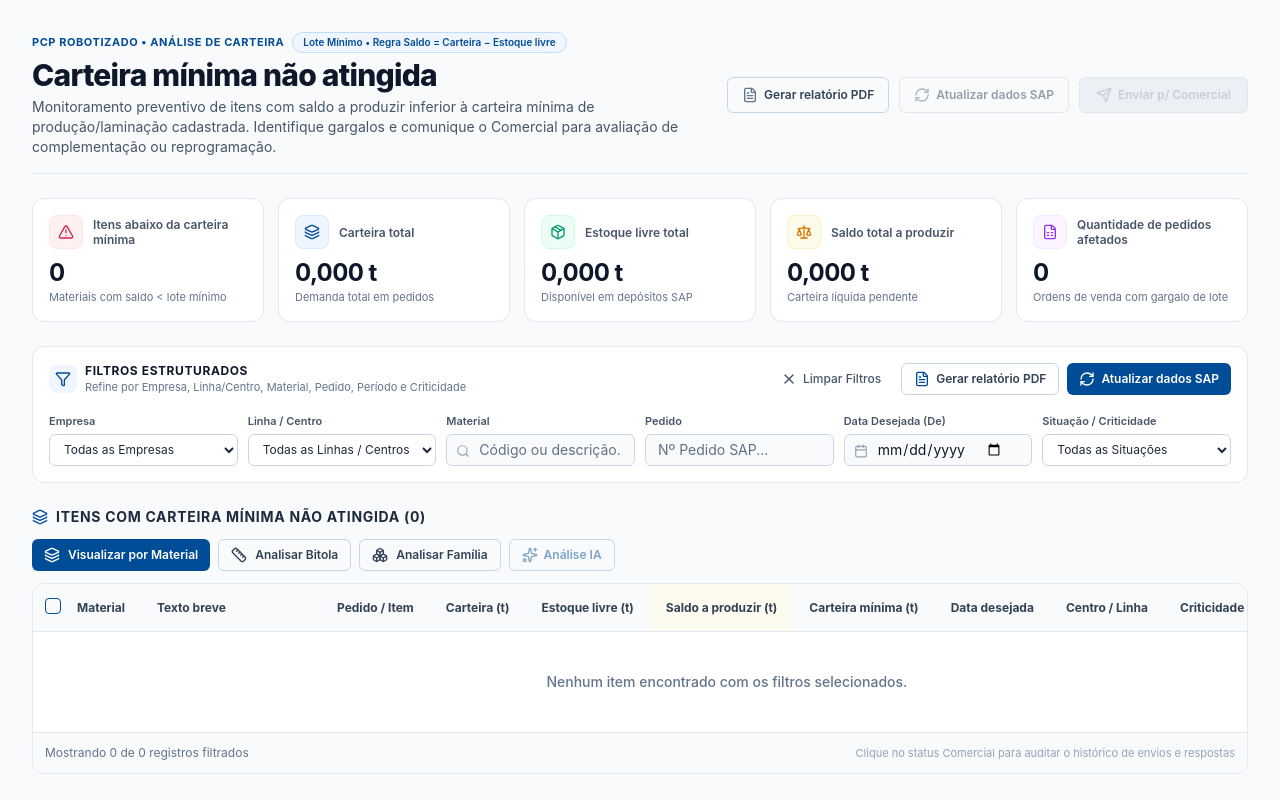
Test case: CarteiraMinimaNaoAtingidaPage — Integração e Alternância de Visões › ao clicar em [Analisar Família], agrupa por Família e exibe colunas consolidadas
The width and height of the screenshot is (1280, 800).
Click the button "Analisar Família".
click(430, 555)  # box left=359, top=539, right=501, bottom=571
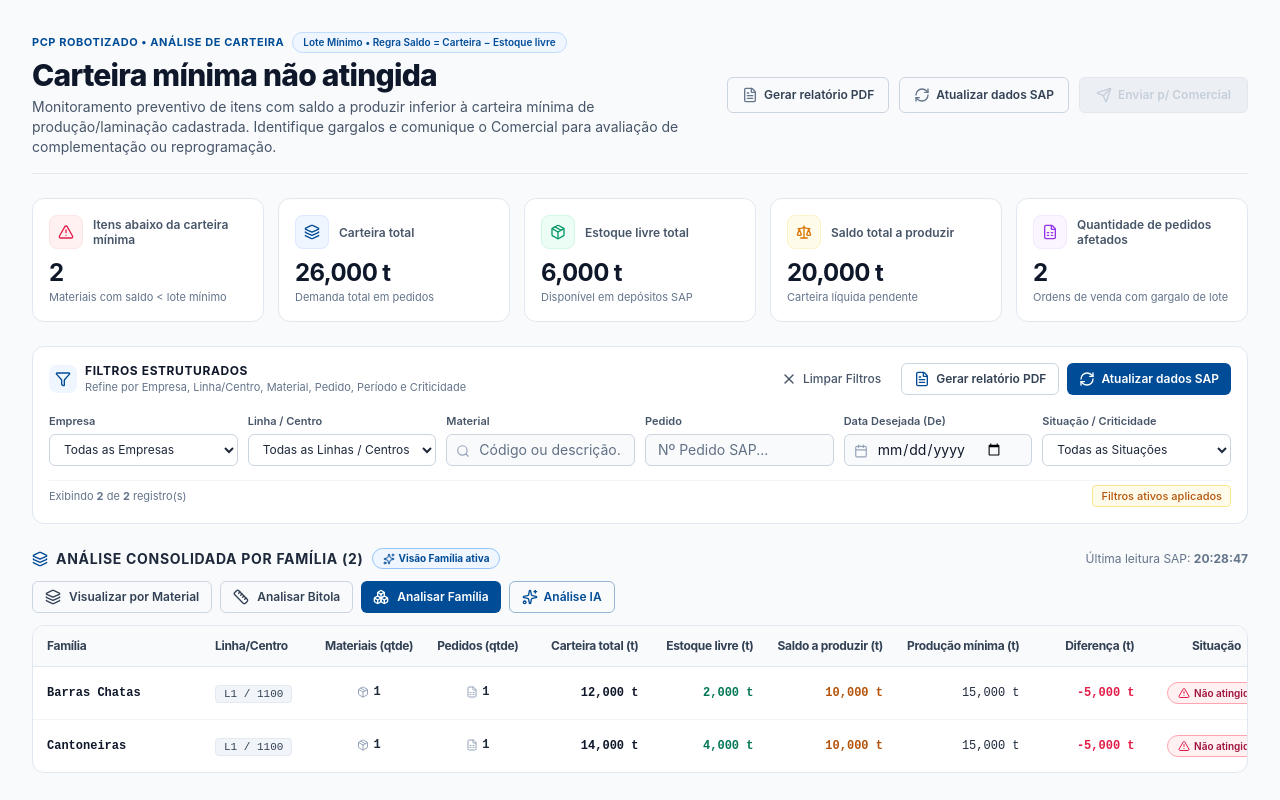
Expected: the text "Visão Família ativa" is shown, left=372, top=548, right=500, bottom=569
Expected: the text "Barras Chatas" is shown, left=47, top=685, right=141, bottom=701
Expected: the text "Cantoneiras" is shown, left=47, top=738, right=126, bottom=754
